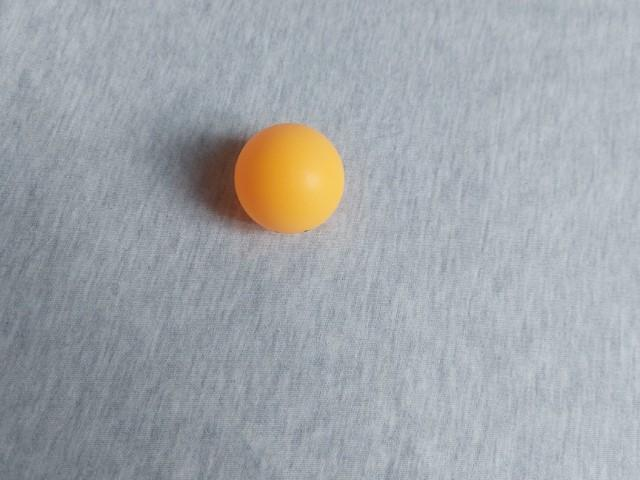oball: (288, 241, 412, 362)
